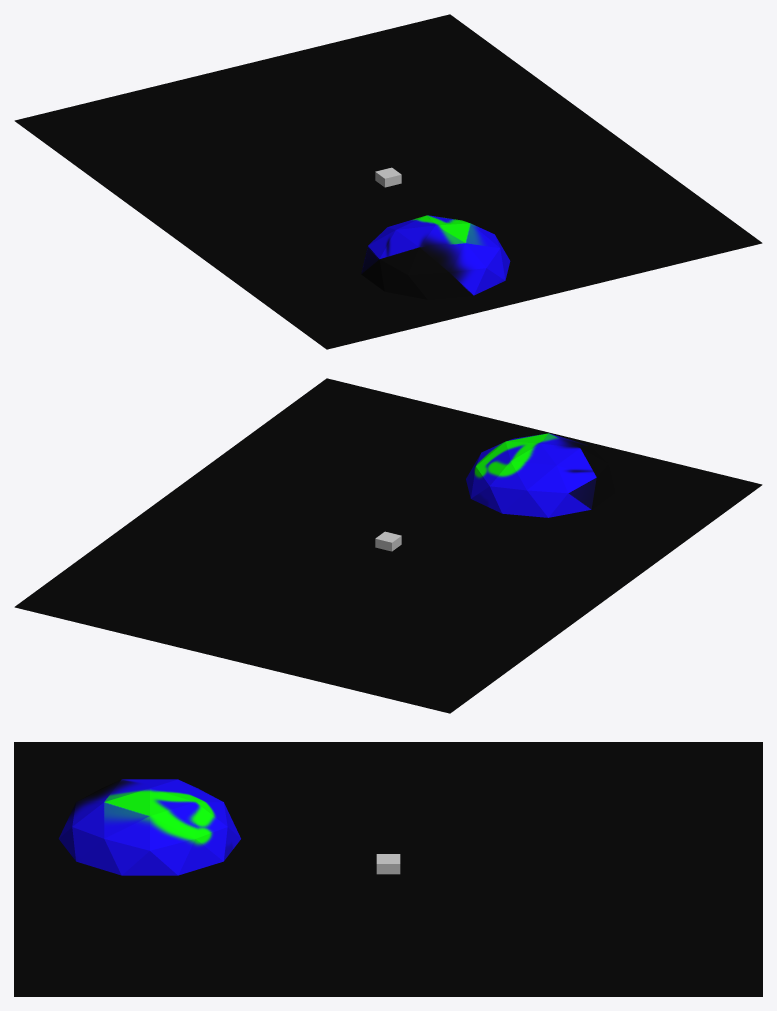
The picture shows the model from 3 angles, top to bottom: view 1: azimuth 30°, elevation 25°; view 2: azimuth 150°, elevation 25°; view 3: azimuth 270°, elevation 25°; orthographic projection. The views are drawn at different scales.
Visible parts, largest first — view 1: Plane, Icosphere; view 2: Plane, Icosphere; view 3: Plane, Icosphere, Cube.
Part boxes in pixels (box(x1,y1,x2,y2)): Plane: box(14, 14, 762, 349); Icosphere: box(361, 215, 510, 299); Plane: box(14, 378, 762, 713); Icosphere: box(466, 433, 614, 517); Plane: box(14, 742, 762, 996); Icosphere: box(58, 779, 240, 875); Cube: box(376, 854, 400, 874).
Size of the model in its own units: 51.66 by 9.56 by 64.18.
3 materials, 3 textured.
